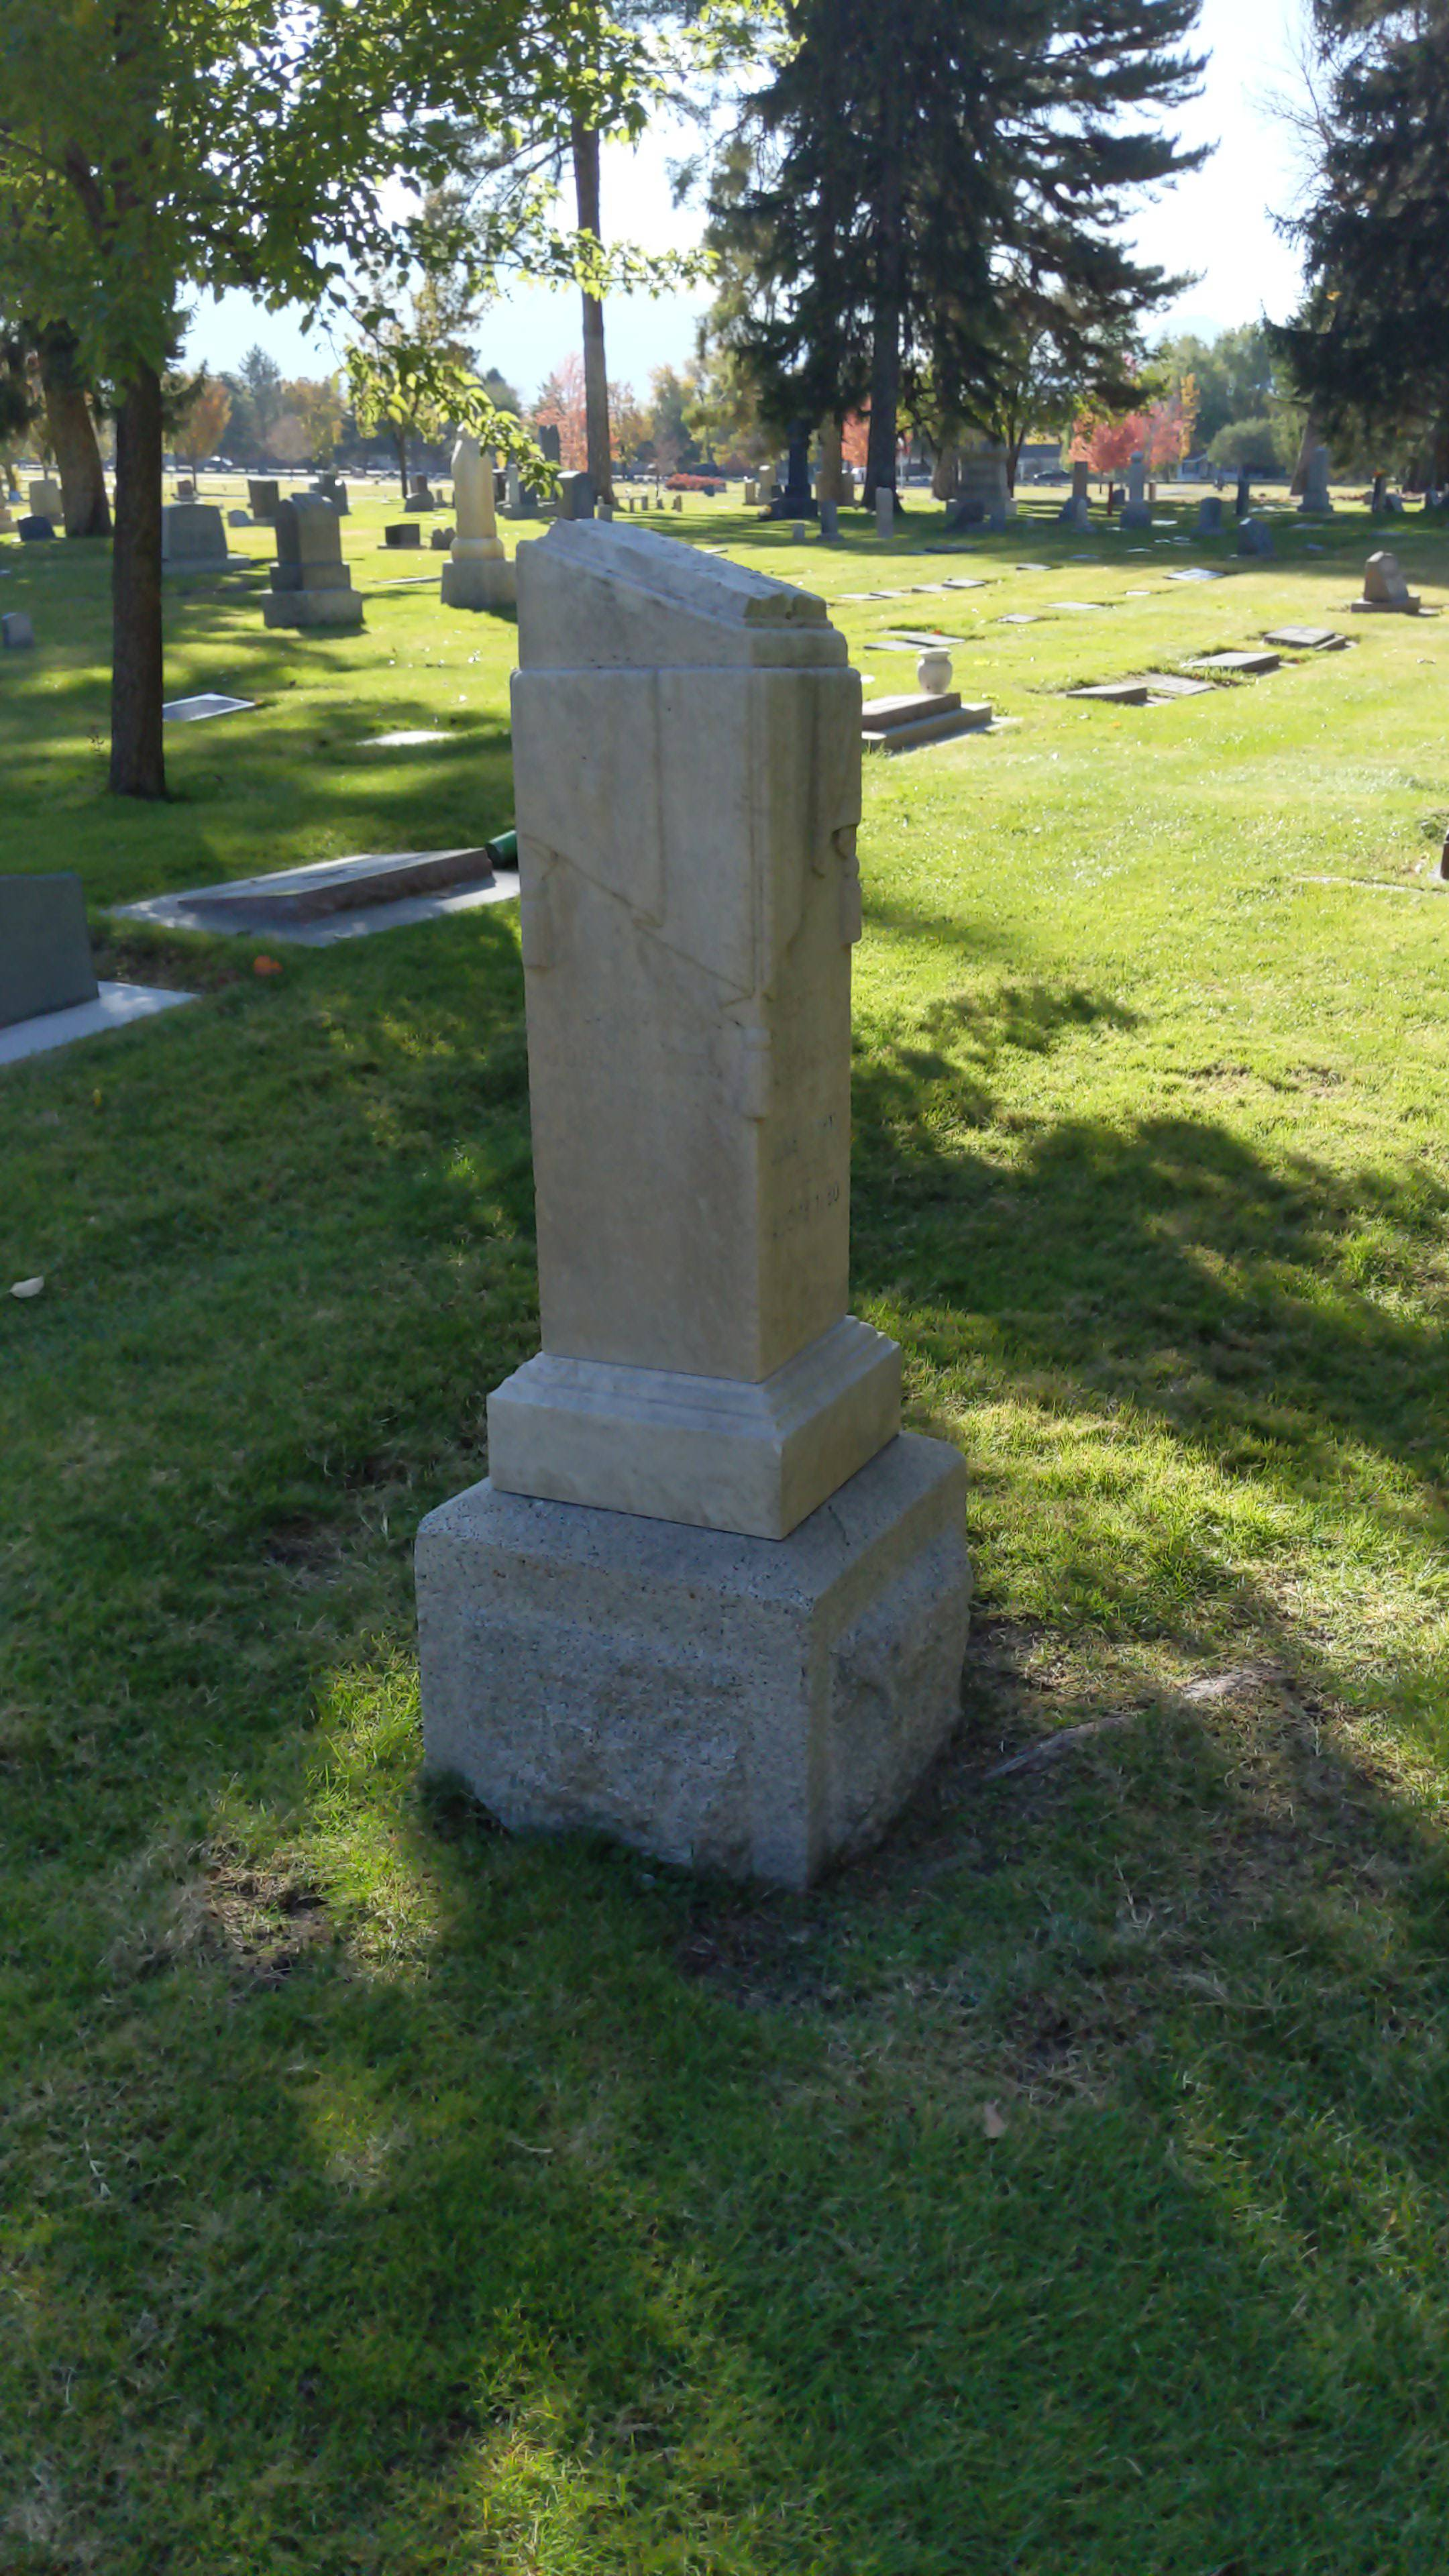obelisk: (487, 510, 893, 1527)
